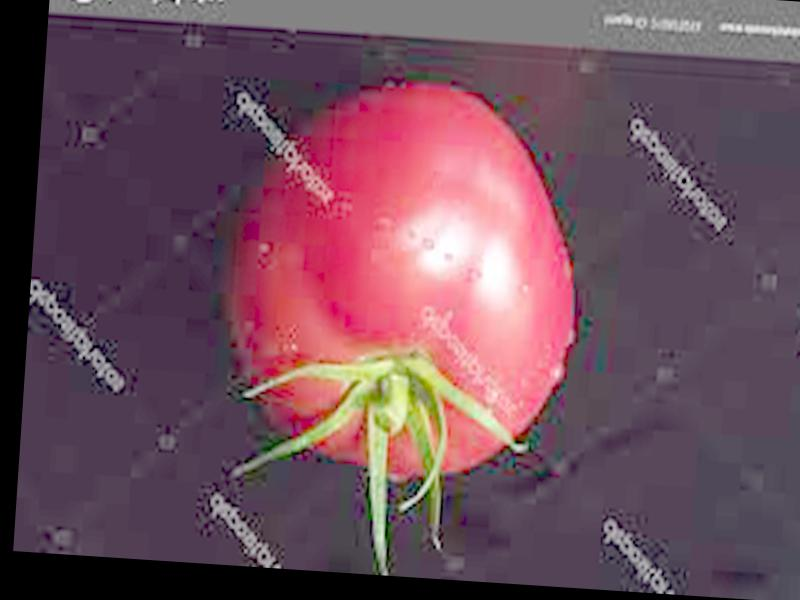Tomato: (219, 73, 588, 488)
